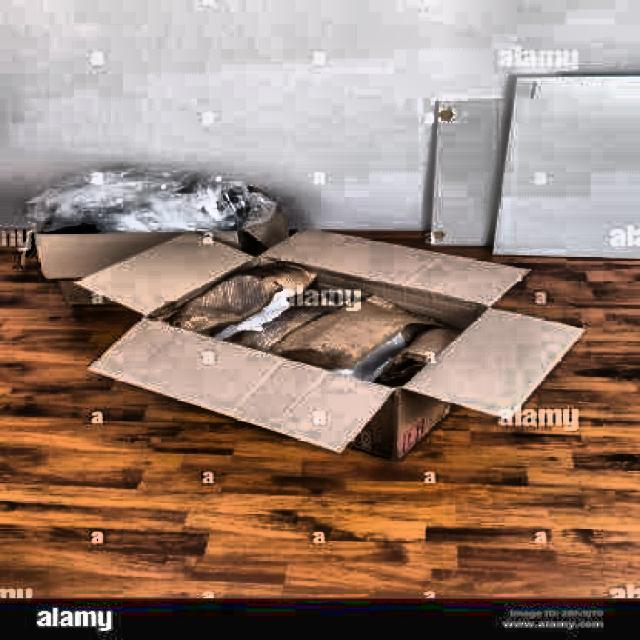Cardbox: (33, 223, 510, 447)
